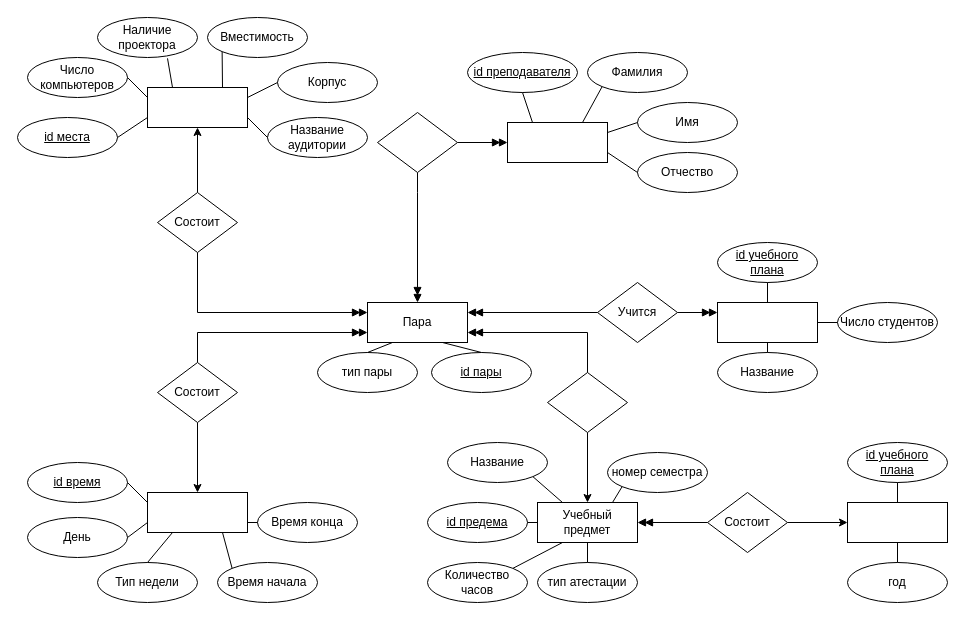
Some shapes in this 965 by 620 pixel diagram are drawn without their labels. The centre of each missing label's shape, as x and y in pixels:
"Время" goes at point (197, 512).
"Группа" goes at point (767, 322).
"Имеет" goes at point (587, 402).
"Место" goes at point (197, 107).
"Преподаватель" goes at point (557, 142).
"Преподает" goes at point (417, 142).
"Учебный план" goes at point (897, 522).
